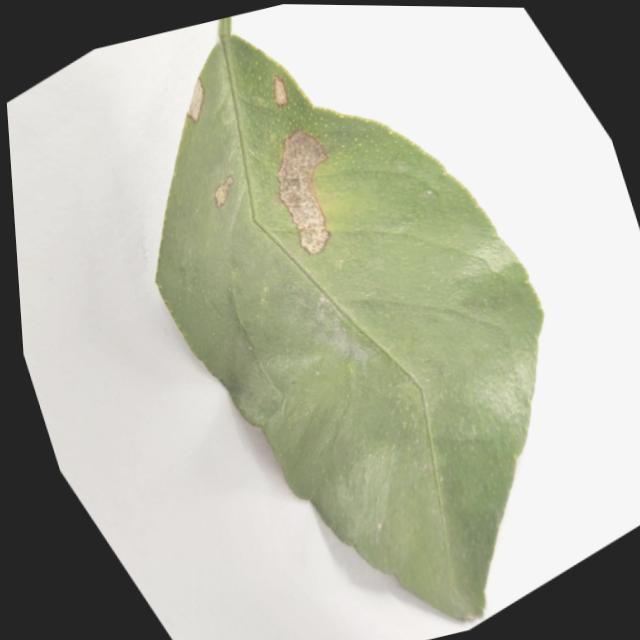antracnose: (155, 16, 542, 620), (276, 129, 329, 254), (186, 77, 203, 123), (213, 176, 231, 207), (272, 75, 287, 106)
